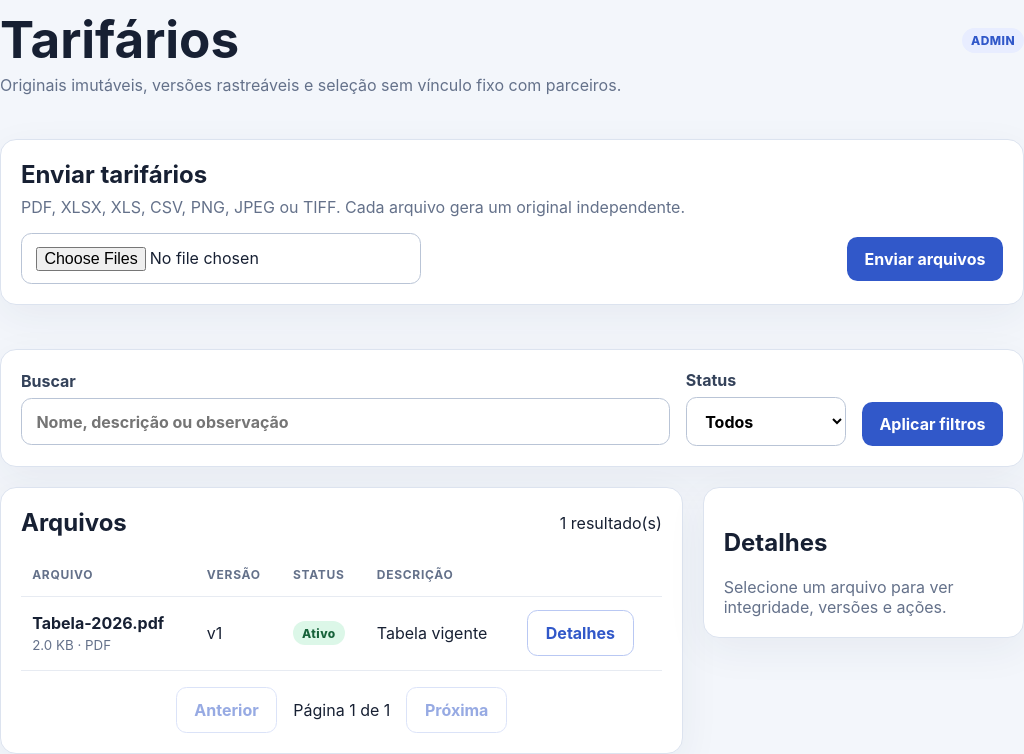
it: TariffManagement › soft deletes only after confirmation
Check: the text "Tabela-2026.pdf" is shown, box [32,613,164,633]
Click the button "Detalhes".
click(580, 633)  # box [527,610,634,656]
(page scrolled)
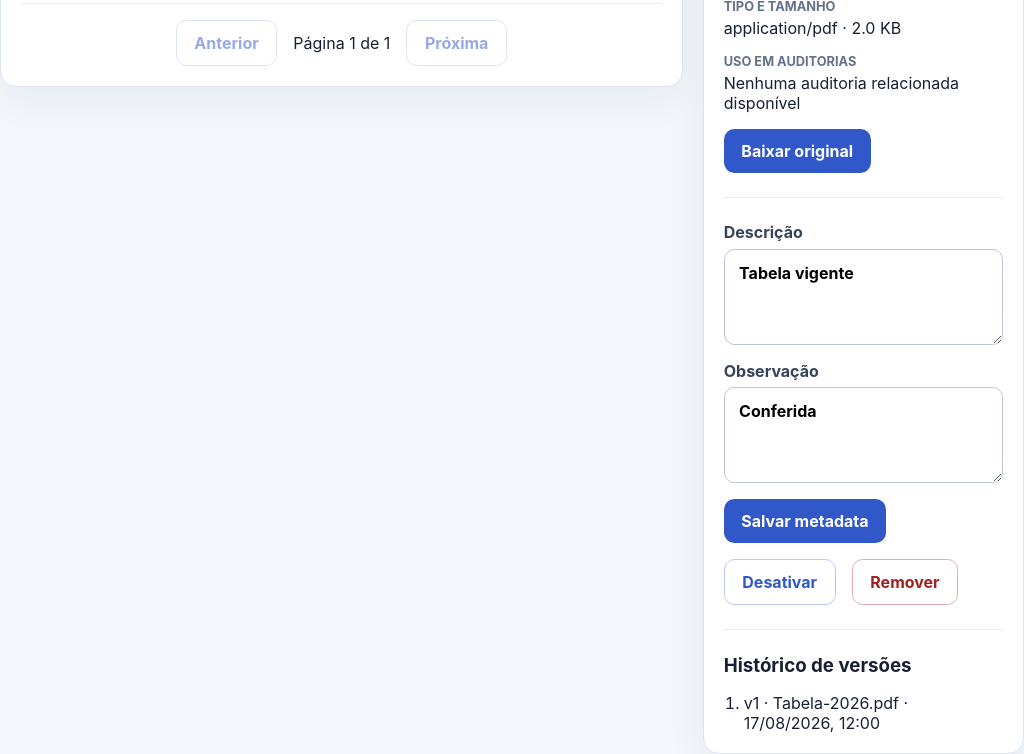
Click the button "Remover".
click(905, 582)  # box [852,559,958,605]
(page scrolled)
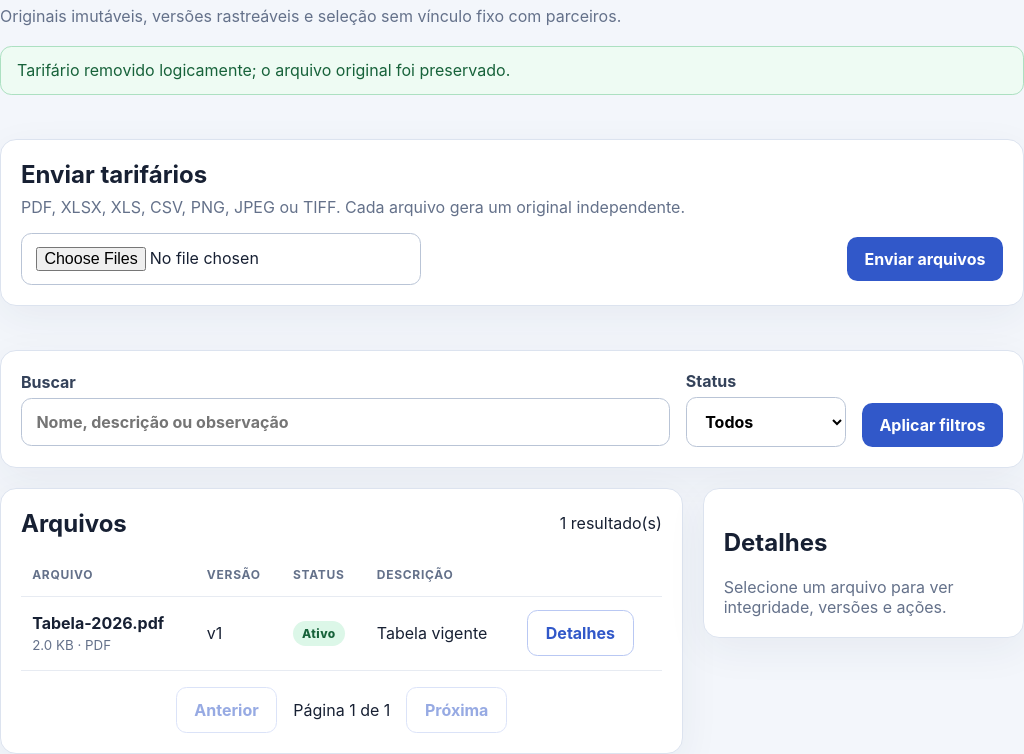
Check: the text "Tarifário removido logicamente; o arquivo original foi preservado." is shown, box [0,46,1023,95]
